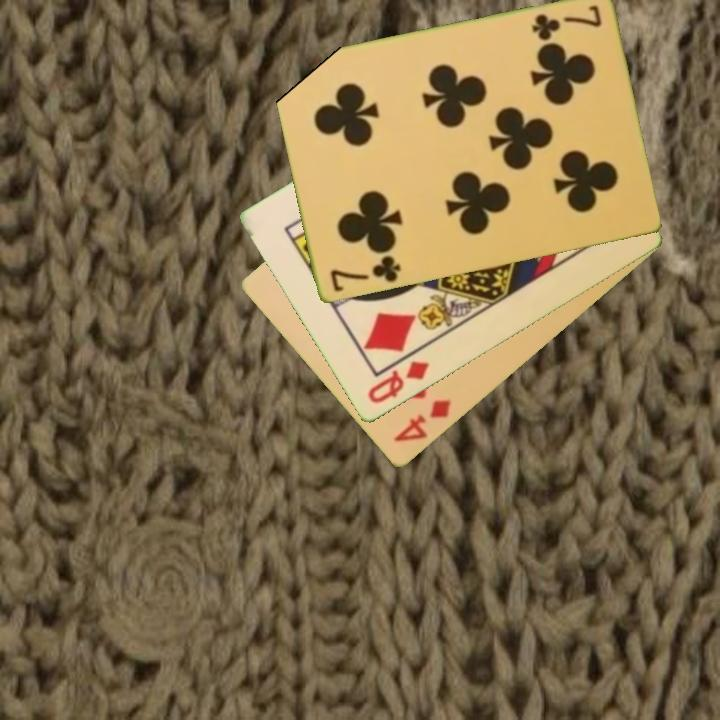4d: (390, 396, 454, 446)
7c: (326, 252, 404, 295), (527, 2, 604, 44)
Qd: (363, 357, 432, 407)
